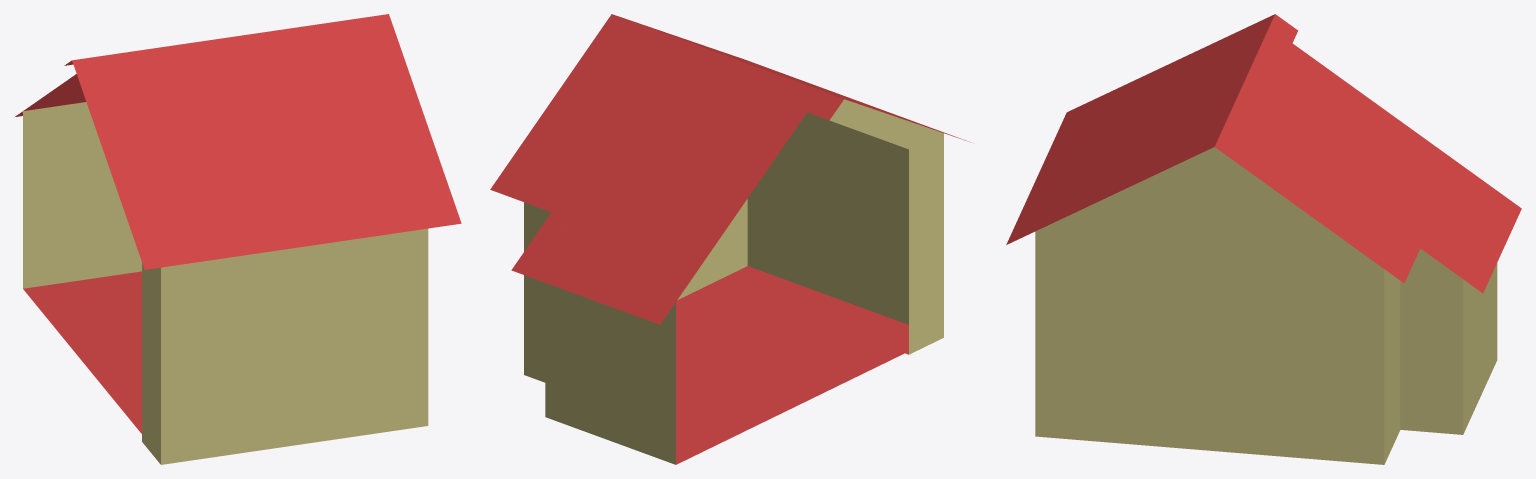
The picture shows the model from 3 angles, left to right: view 1: azimuth 30°, elevation 25°; view 2: azimuth 150°, elevation 25°; view 3: azimuth 270°, elevation 25°; orthographic projection. The views are drawn at different scales.
Bounding box in the file's own units: 11.67 × 15.39 × 10.37.
